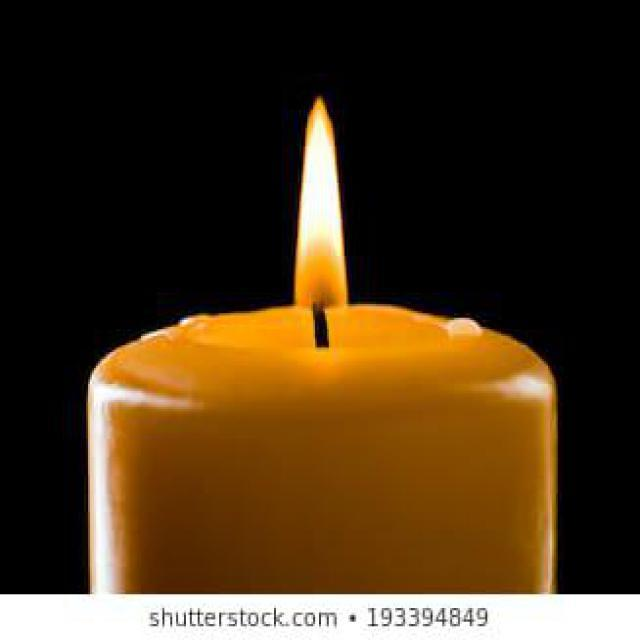Fire: (294, 98, 348, 311)
